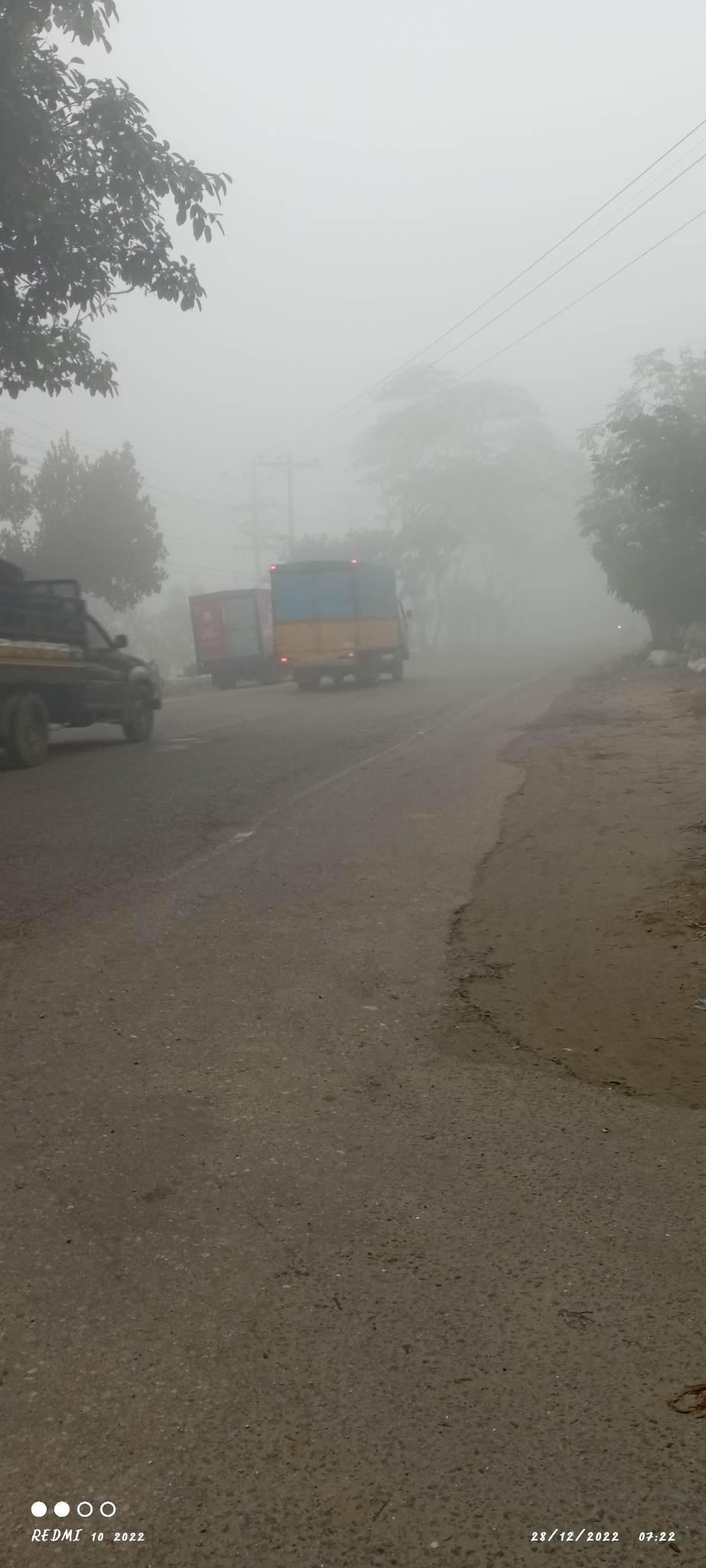Truck: (9, 554, 185, 761), (265, 540, 470, 707), (179, 575, 276, 689)
